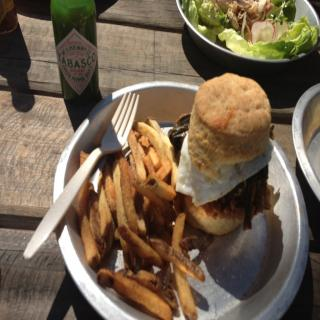French fries: (69, 148, 213, 315)
Hamburger: (176, 72, 274, 237)
Salad: (174, 0, 320, 70)
